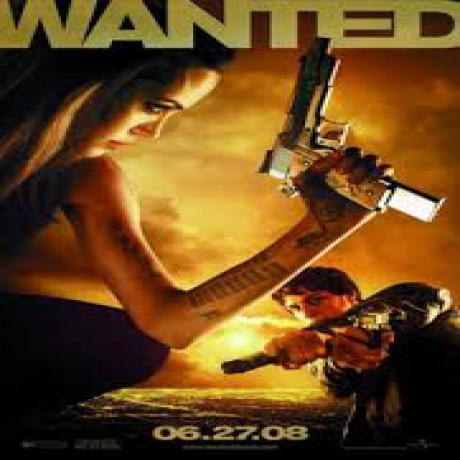Guns: (264, 35, 454, 239), (219, 333, 296, 379), (344, 296, 406, 342)
